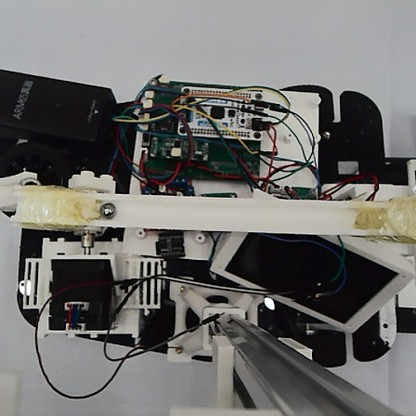ironball: (99, 200, 117, 220)
